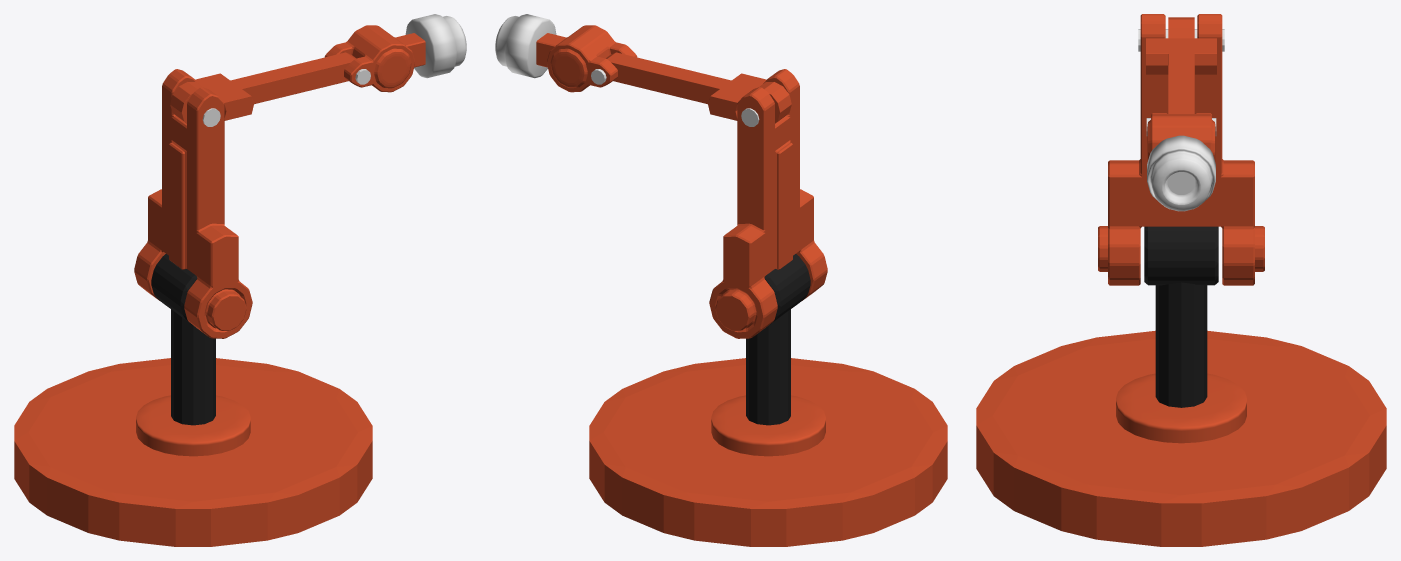
File: Robot.dae
3 renders of one model, left to right at view 1: azimuth 30°, elevation 25°; view 2: azimuth 150°, elevation 25°; view 3: azimuth 270°, elevation 25°, orthographic. The views are drawn at different scales.
Visible parts, largest first — view 1: Cylinder_002, Cylinder_019, Cylinder_018, Cylinder_020, Cylinder_003, Cylinder_021, Cylinder_022, Cylinder_017; view 2: Cylinder_002, Cylinder_019, Cylinder_018, Cylinder_020, Cylinder_003, Cylinder_021, Cylinder_022, Cylinder_017; view 3: Cylinder_002, Cylinder_019, Cylinder_003, Cylinder_020, Cylinder_017, Cylinder_022, Cylinder_018, Cylinder_021.
Boxes of the visible parts, box(x1,y1,x2,y2) form: Cylinder_002: box(14, 358, 372, 546); Cylinder_019: box(134, 69, 252, 338); Cylinder_018: box(170, 52, 355, 123); Cylinder_020: box(136, 395, 250, 456); Cylinder_003: box(171, 309, 215, 425); Cylinder_021: box(324, 25, 425, 92); Cylinder_022: box(405, 14, 466, 78); Cylinder_017: box(151, 254, 197, 324); Cylinder_002: box(589, 358, 947, 546); Cylinder_019: box(709, 69, 827, 338); Cylinder_018: box(606, 52, 791, 123); Cylinder_020: box(711, 395, 825, 456); Cylinder_003: box(746, 309, 790, 425); Cylinder_021: box(536, 25, 637, 92); Cylinder_022: box(495, 14, 556, 78); Cylinder_017: box(764, 254, 810, 324); Cylinder_002: box(976, 330, 1386, 546); Cylinder_019: box(1098, 14, 1264, 285); Cylinder_003: box(1155, 282, 1207, 407); Cylinder_020: box(1116, 373, 1246, 443); Cylinder_017: box(1144, 226, 1218, 285); Cylinder_022: box(1147, 135, 1215, 211); Cylinder_018: box(1146, 17, 1216, 113); Cylinder_021: box(1147, 113, 1215, 161).
Bounding box in the file's own units: 10.13 × 7.5 × 9.13.
